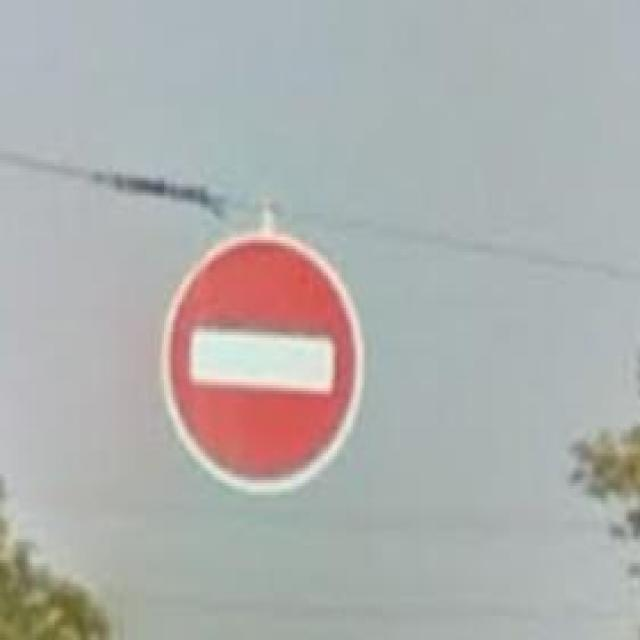Zakaz wjazdu: (164, 231, 367, 492)
